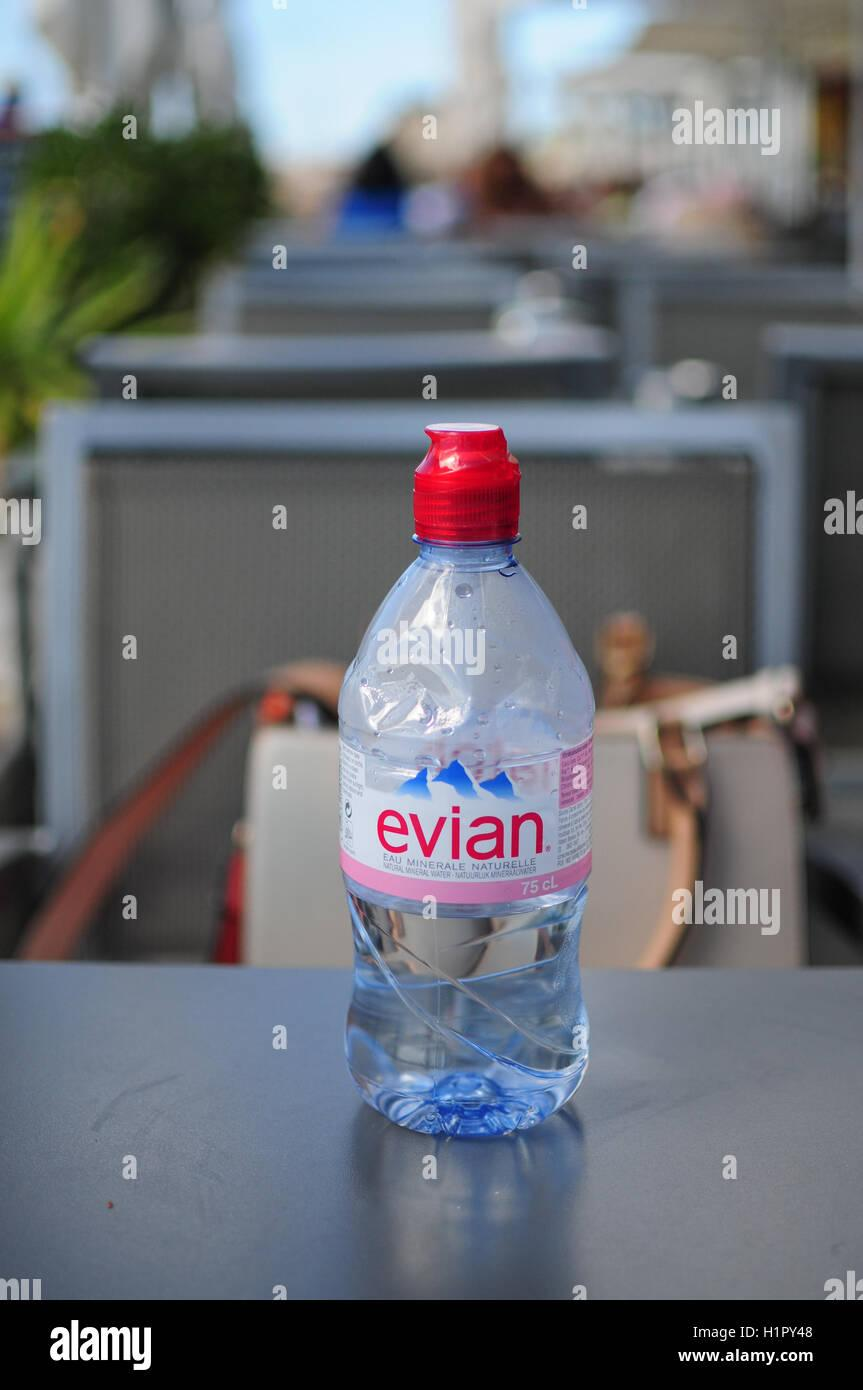plastic_bottle: (328, 406, 613, 1148)
